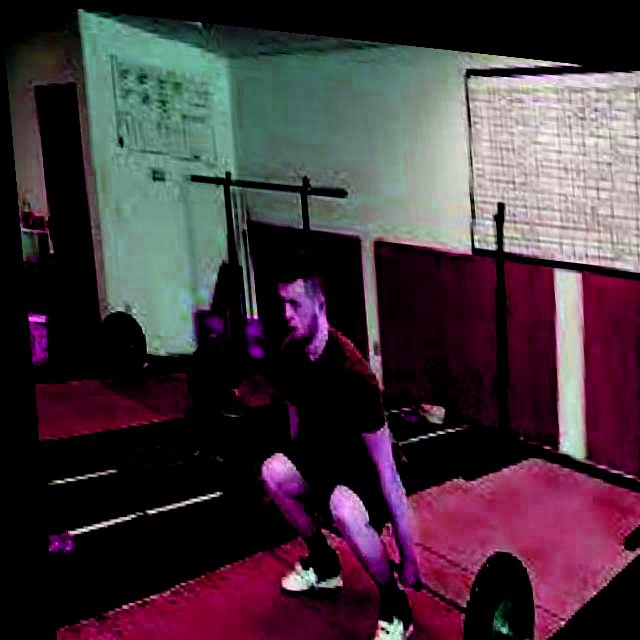barbell: (439, 527, 609, 640)
